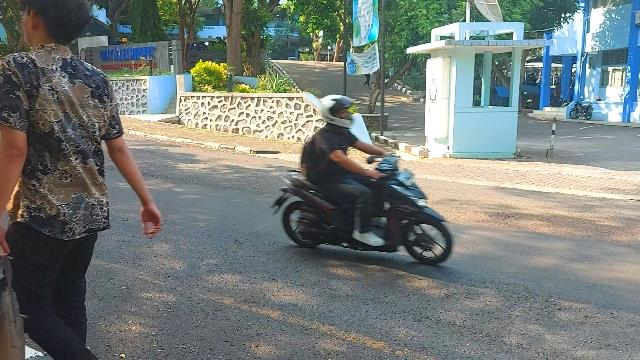helm: (321, 97, 354, 130)
motor: (271, 156, 453, 265)
